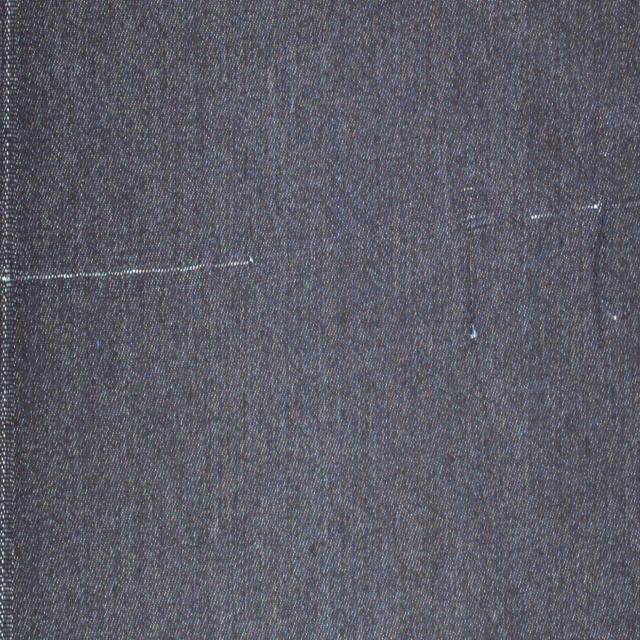Knot: (593, 203, 611, 344), (467, 228, 477, 341)
Line: (3, 197, 640, 286)
